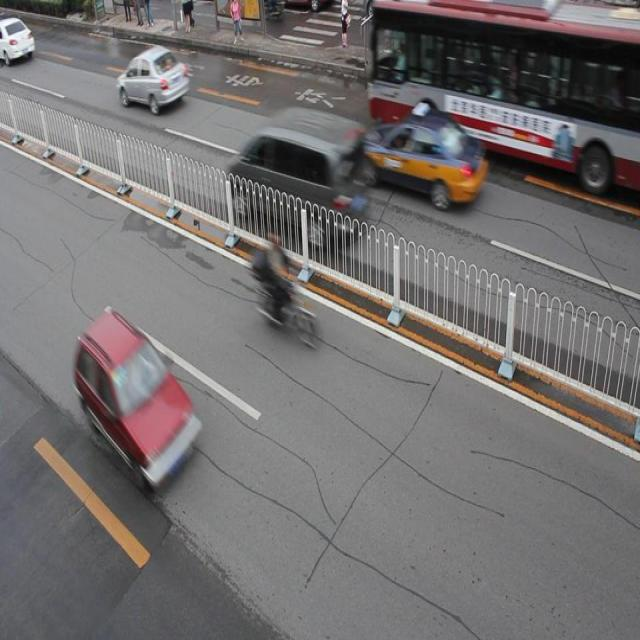car: (74, 310, 198, 486), (363, 109, 486, 209), (118, 46, 190, 112), (1, 17, 35, 66)
truck: (229, 106, 362, 242)
van: (370, 1, 640, 190)
